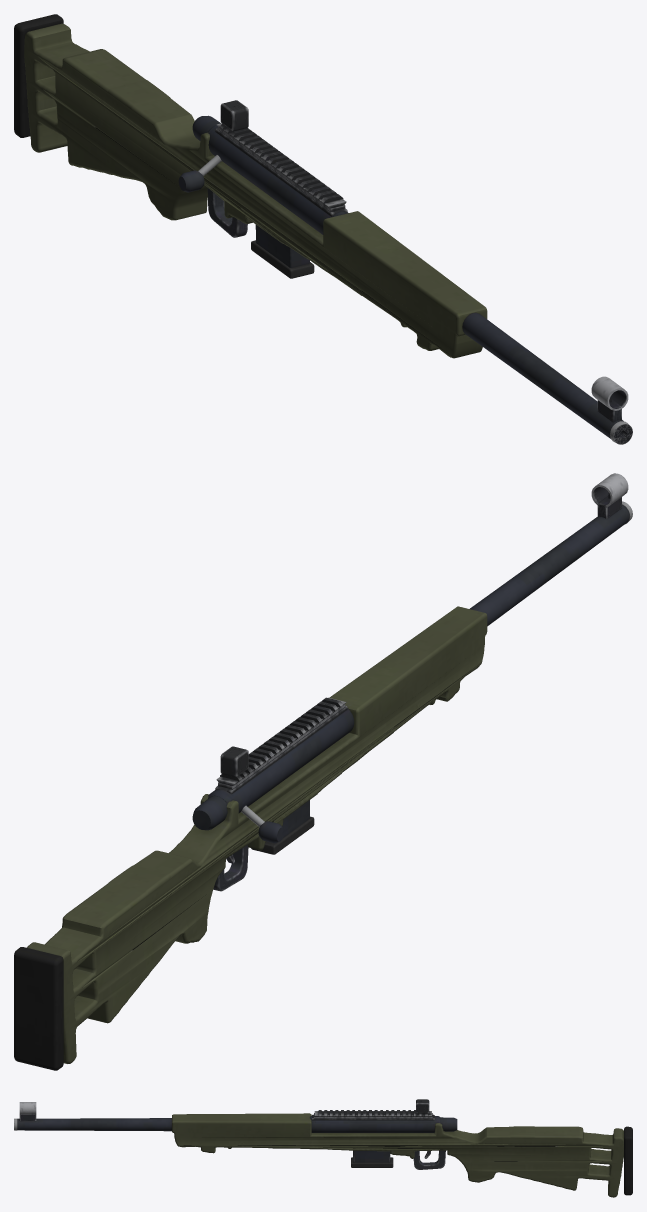
3 renders of one model, top to bottom at view 1: azimuth 30°, elevation 25°; view 2: azimuth 150°, elevation 25°; view 3: azimuth 270°, elevation 25°, orthographic. The views are drawn at different scales.
Visible parts, largest first — view 1: body, mag_mesh, bolt_mesh; view 2: body, bolt_mesh, mag_mesh; view 3: body, mag_mesh, bolt_mesh.
Boxes of the visible parts, x1=… form: body: x1=14, y1=14, x2=632, y2=444; mag_mesh: x1=251, y1=224, x2=314, y2=278; bolt_mesh: x1=178, y1=115, x2=221, y2=192; body: x1=14, y1=473, x2=632, y2=1070; bolt_mesh: x1=192, y1=796, x2=284, y2=843; mag_mesh: x1=251, y1=800, x2=314, y2=854; body: x1=14, y1=1099, x2=632, y2=1197; mag_mesh: x1=351, y1=1151, x2=393, y2=1167; bolt_mesh: x1=440, y1=1117, x2=457, y2=1131.
Bounding box in the file's own units: 0.0773 × 0.1811 × 1.11.
1 material, 1 textured.
